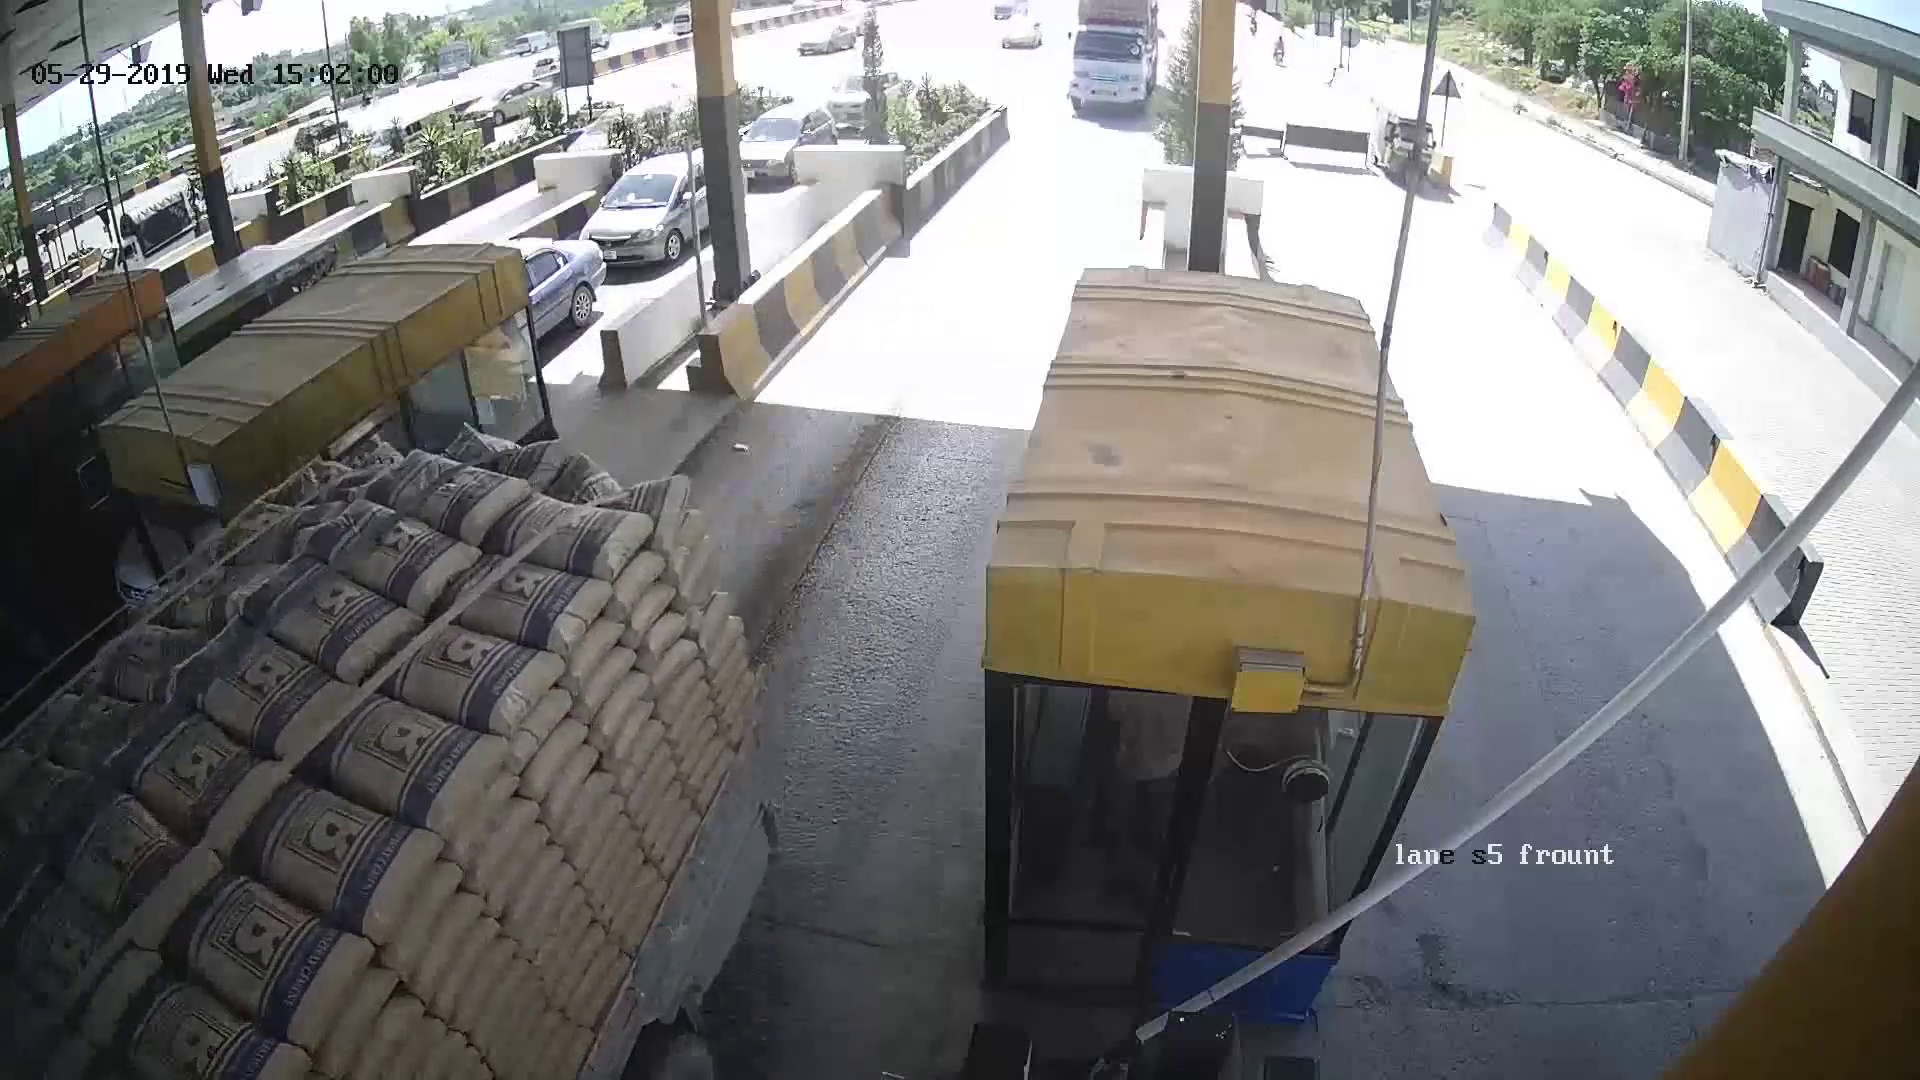truck: (171, 654, 781, 1071)
